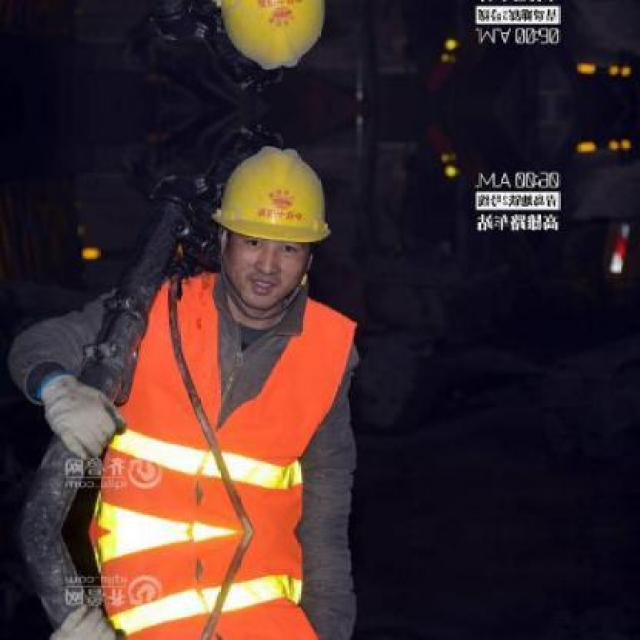Reflective-Jacket: (63, 278, 363, 532)
Safety-Helmet: (203, 140, 343, 254)
